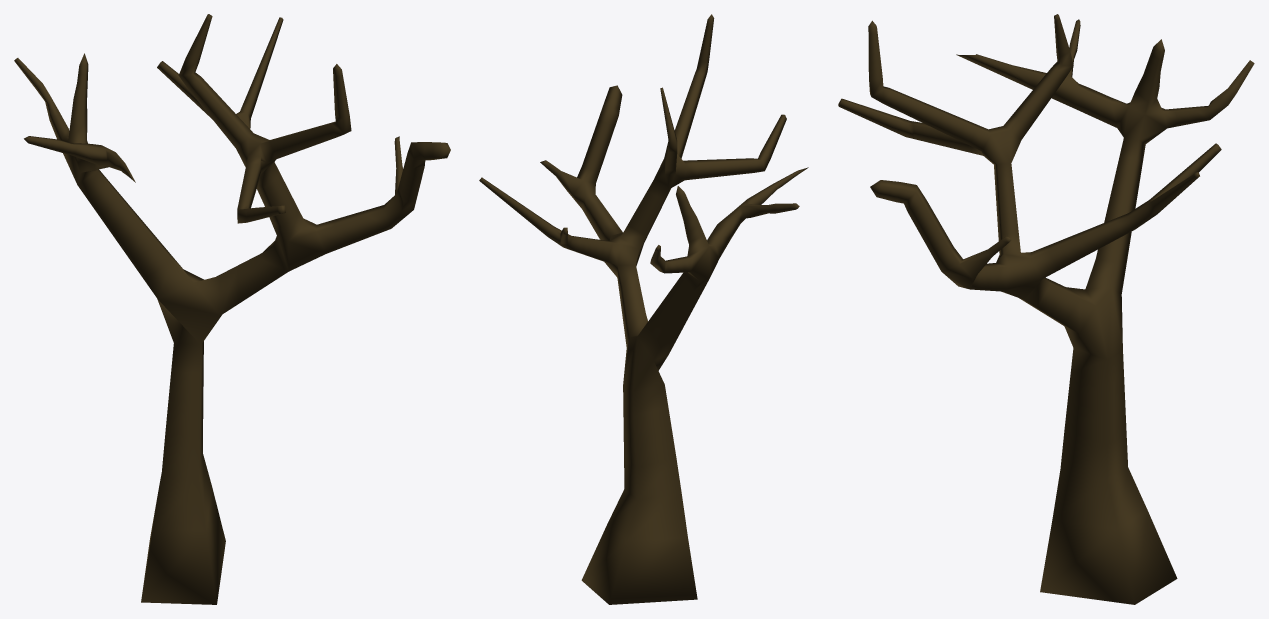
Rendered from SM_TreeDead_01.fbx.
3 views of the same model, side by side, from view 1: azimuth 30°, elevation 25°; view 2: azimuth 150°, elevation 25°; view 3: azimuth 270°, elevation 25° (orthographic). The views are drawn at different scales.
Visible parts, largest first — view 1: Tree_01; view 2: Tree_01; view 3: Tree_01.
Boxes of the visible parts, x1,y1,x2,y2 form: Tree_01: (14,14,450,604); Tree_01: (479,14,808,604); Tree_01: (838,14,1254,604).
Size of the model in its own units: 269 by 447 by 287.
